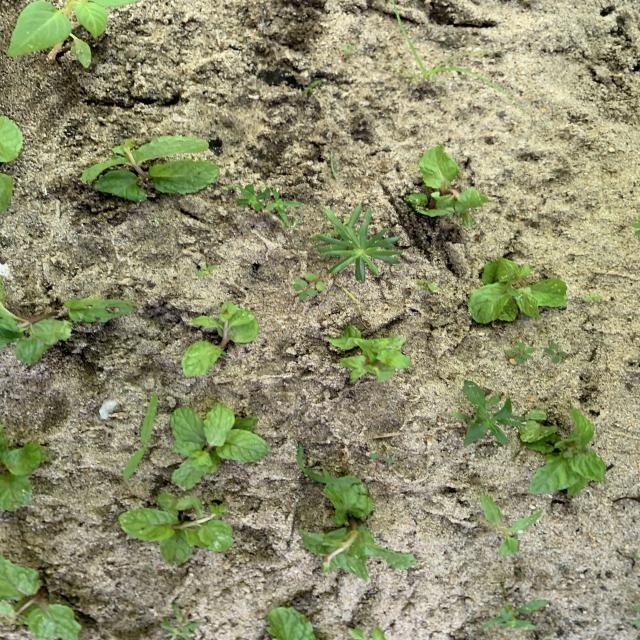crop: (300, 475, 414, 579), (1, 278, 134, 363), (81, 136, 219, 200), (171, 405, 269, 489), (120, 494, 233, 563), (520, 409, 606, 495), (1, 556, 81, 639), (408, 145, 489, 226), (468, 258, 567, 322), (182, 303, 259, 375), (326, 326, 410, 381), (1, 425, 49, 509), (268, 608, 317, 639), (1, 117, 23, 163)
weed: (391, 0, 513, 100), (7, 0, 138, 68), (312, 206, 401, 281), (450, 384, 525, 447), (473, 495, 542, 554), (124, 394, 158, 478), (483, 601, 539, 629), (265, 190, 303, 229), (162, 604, 203, 639), (293, 272, 325, 299), (236, 185, 269, 211), (507, 342, 535, 362), (370, 444, 396, 462), (545, 343, 567, 362), (301, 80, 321, 96), (196, 263, 217, 275), (416, 281, 438, 291), (210, 503, 227, 514), (631, 607, 639, 627), (632, 216, 639, 235), (342, 45, 354, 56), (584, 294, 602, 300)
